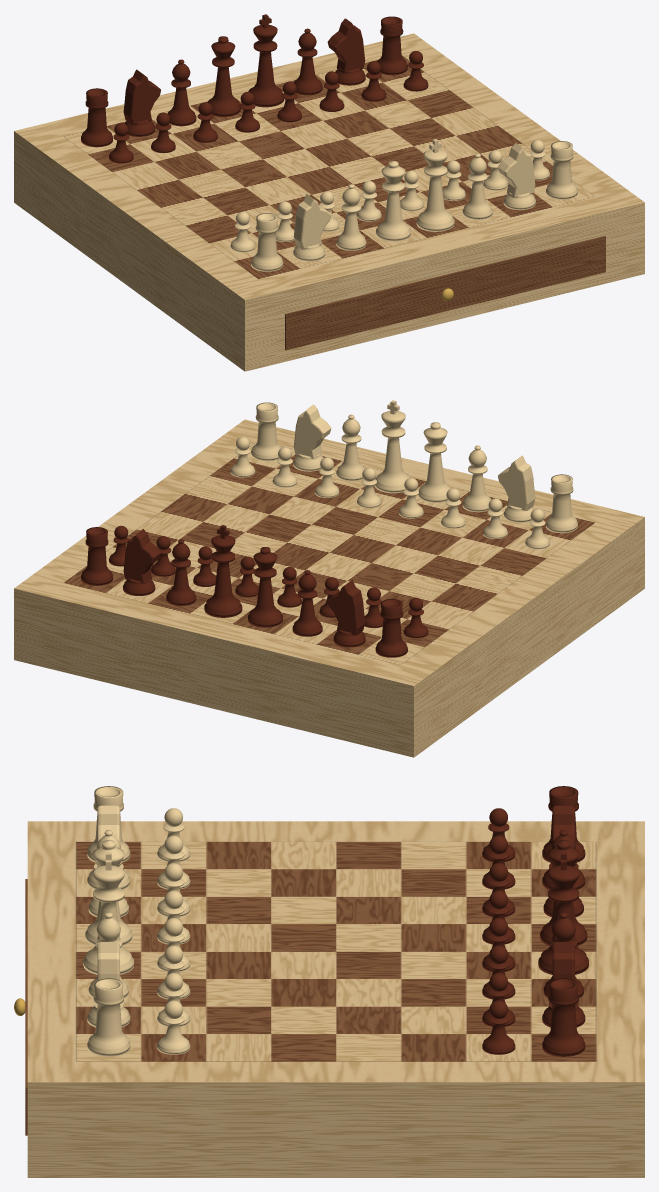
File: philidor-3d-erable-tiroir-38.glb
The picture shows the model from 3 angles, top to bottom: view 1: azimuth 30°, elevation 25°; view 2: azimuth 150°, elevation 25°; view 3: azimuth 270°, elevation 25°; orthographic projection. The views are drawn at different scales.
Visible parts, largest first — view 1: erable-tiroir-38; view 2: erable-tiroir-38; view 3: erable-tiroir-38.
Boxes of the visible parts, x1=… form: erable-tiroir-38: x1=14, y1=14, x2=644, y2=371; erable-tiroir-38: x1=14, y1=400, x2=644, y2=757; erable-tiroir-38: x1=14, y1=786, x2=644, y2=1177.
Size of what is drawn, in the model's own units: 0.38 by 0.141 by 0.3883.
Materials: 6 (3 with a texture image).
